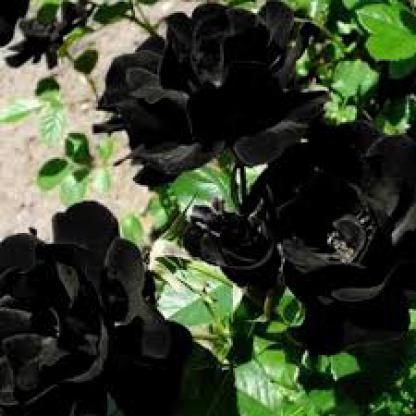Rose-Mawar: (92, 1, 415, 369), (1, 197, 181, 416)
